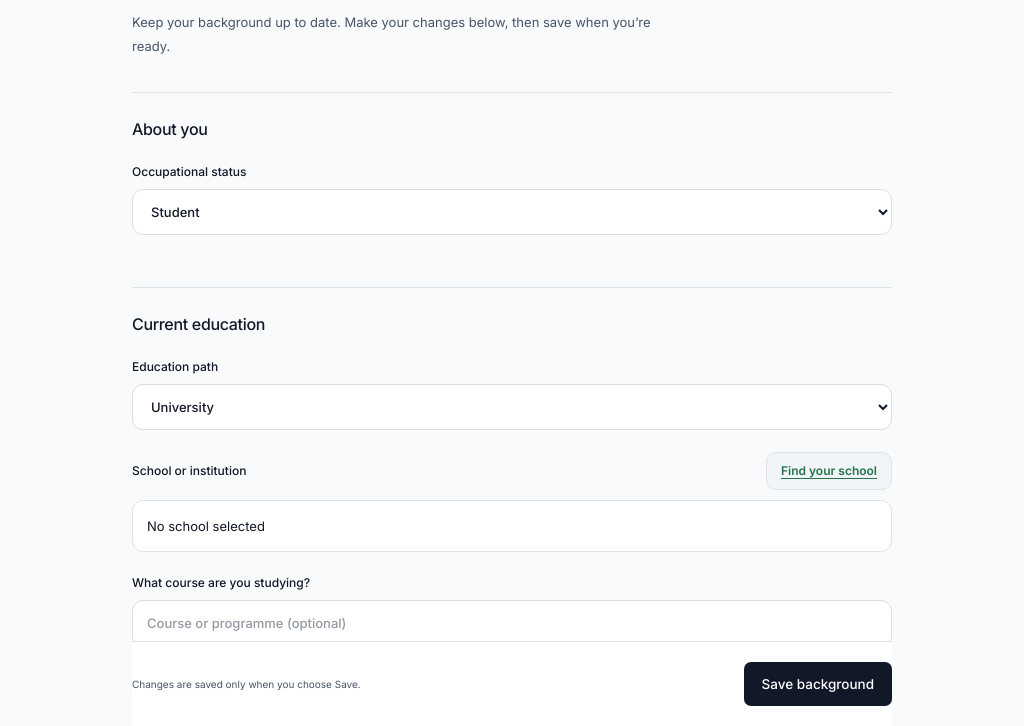
Test: nonstudent can leave school unanswered; status changes prompt review
Select "Employed" in the dropdown labelled "Occupational status" at (512, 212), box [132,189,892,235]
(page scrolled)
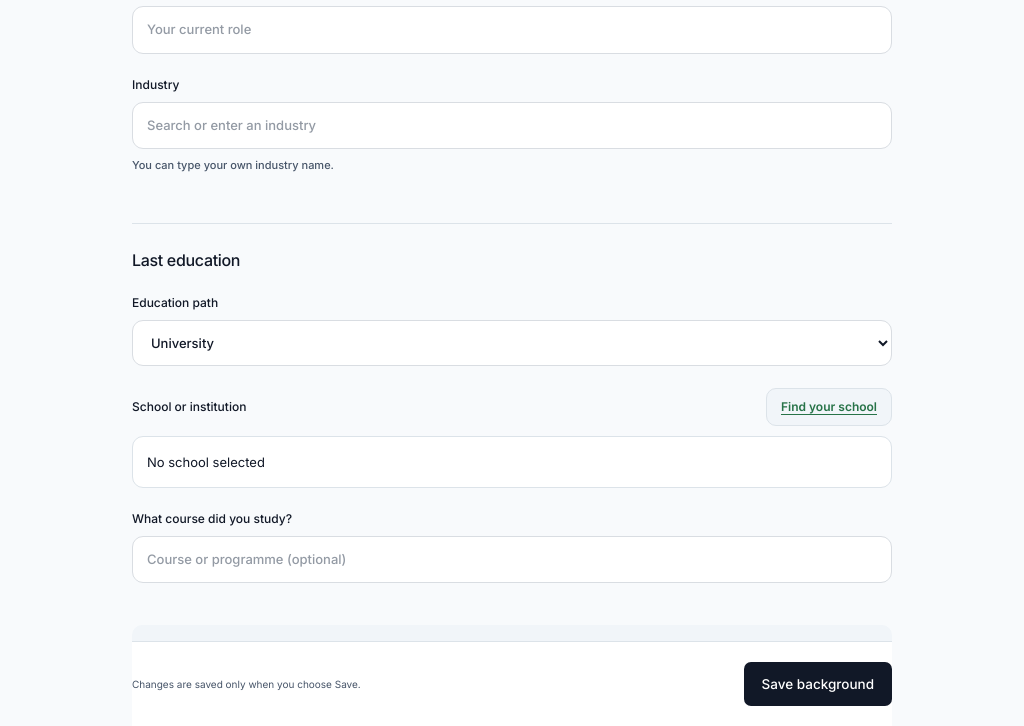
Expected: the text "Please review your education details" is shown, [148,639,761,654]
Expected: the text "Last education" is shown, [132,250,240,270]
Select "No applicable previous education" in the dropdown labelled "Education path" at (512, 343), box [132,320,892,366]
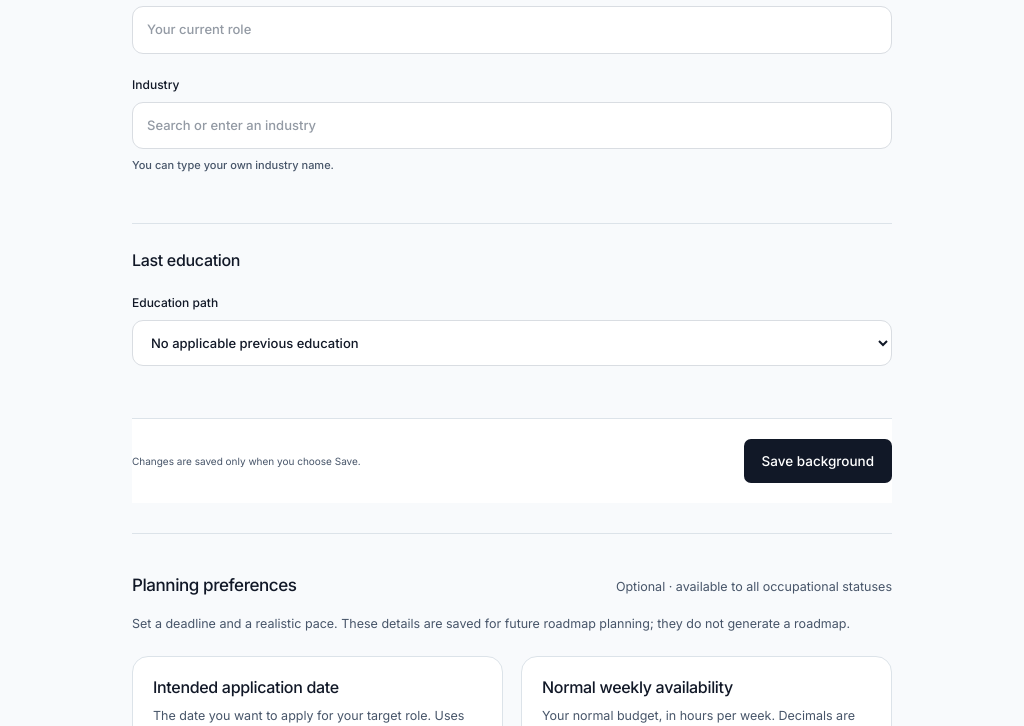
Click the button "Save background" at (818, 461), box [744,439,892,483]
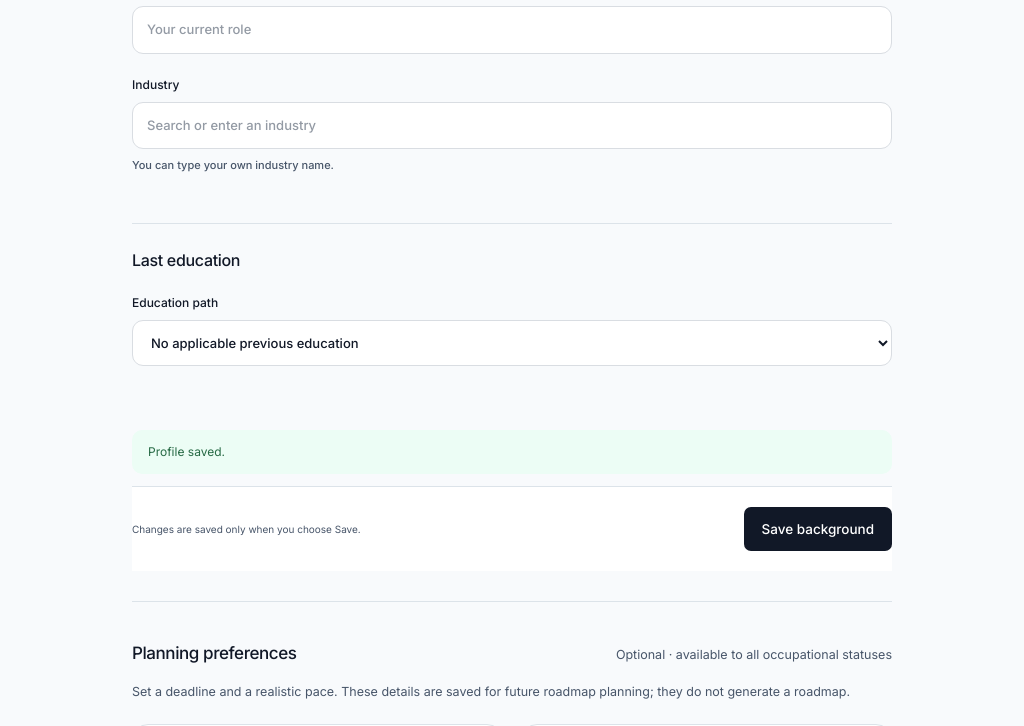
Expected: the text "Profile saved." is shown, [132,430,892,474]
